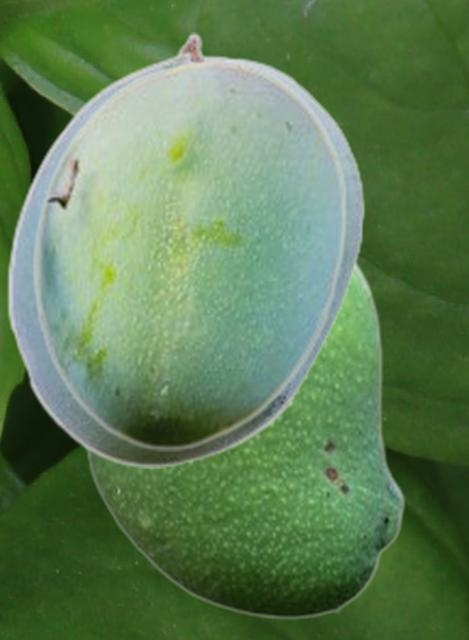green_mango: (6, 32, 365, 467), (31, 58, 347, 450), (80, 257, 405, 620)
